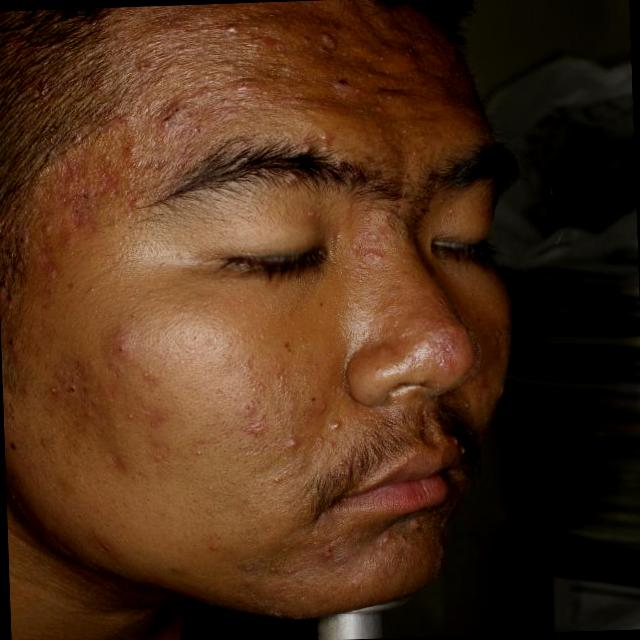acne: (78, 520, 122, 564), (100, 166, 146, 206), (218, 63, 257, 101), (166, 12, 209, 44), (34, 255, 72, 288), (276, 432, 318, 461), (105, 448, 142, 476), (48, 228, 84, 256), (76, 398, 106, 430), (120, 126, 146, 160), (316, 540, 344, 570), (308, 28, 342, 52), (150, 56, 184, 80), (233, 410, 255, 447), (292, 390, 322, 416), (207, 529, 230, 560), (316, 416, 347, 437), (56, 150, 85, 171), (58, 181, 83, 205), (160, 102, 187, 124), (230, 395, 260, 414), (72, 200, 96, 223), (408, 517, 428, 541), (111, 330, 126, 357), (45, 382, 54, 396)
